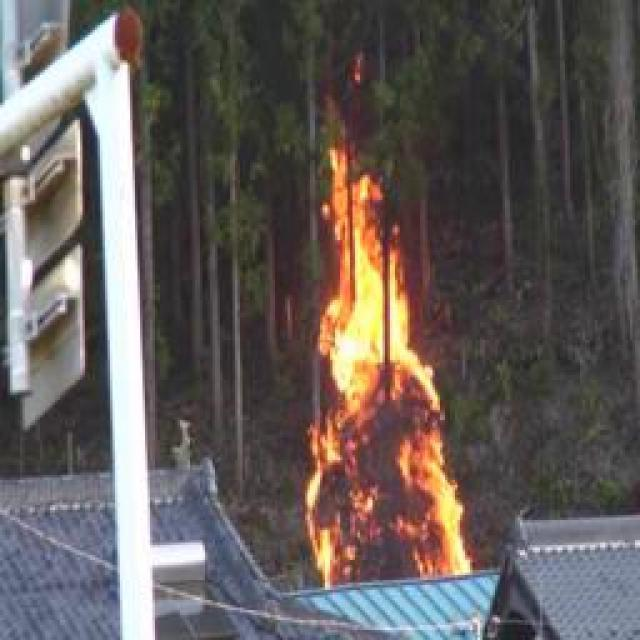Fire: (310, 171, 466, 585)
